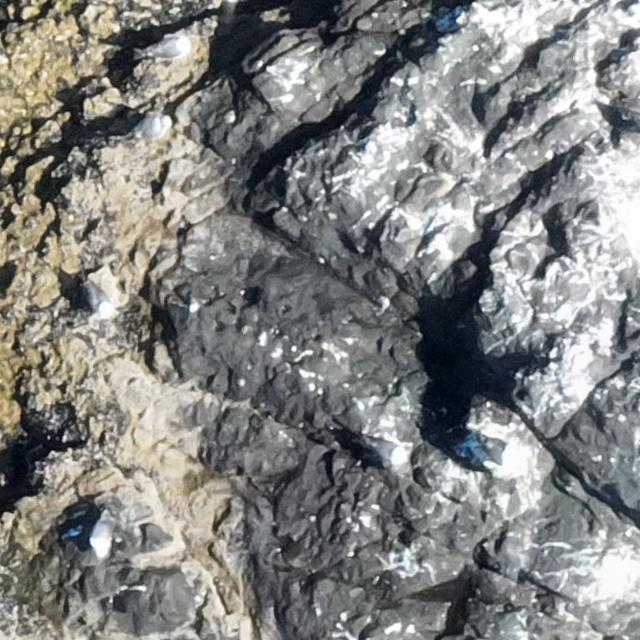umineko: (368, 434, 412, 466), (141, 36, 194, 60), (85, 279, 113, 323), (91, 509, 114, 559)
